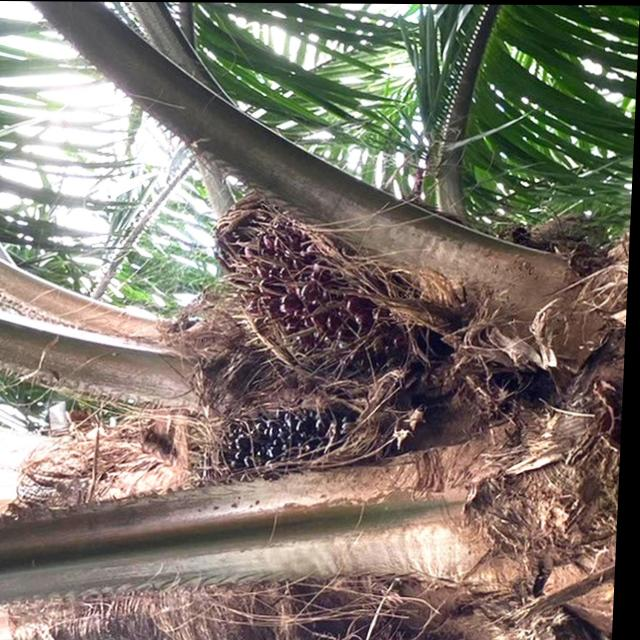ripe: (237, 218, 430, 352)
